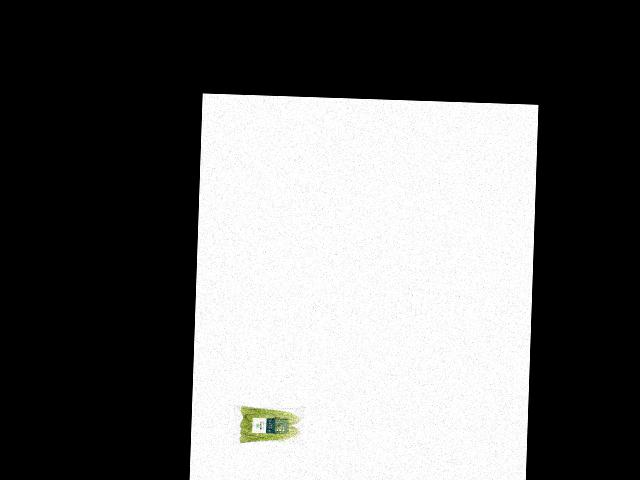lettuce: (237, 401, 302, 445)
